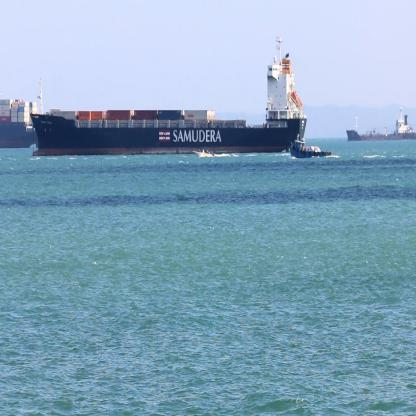Container Ship: (30, 33, 308, 157), (1, 98, 38, 150)
